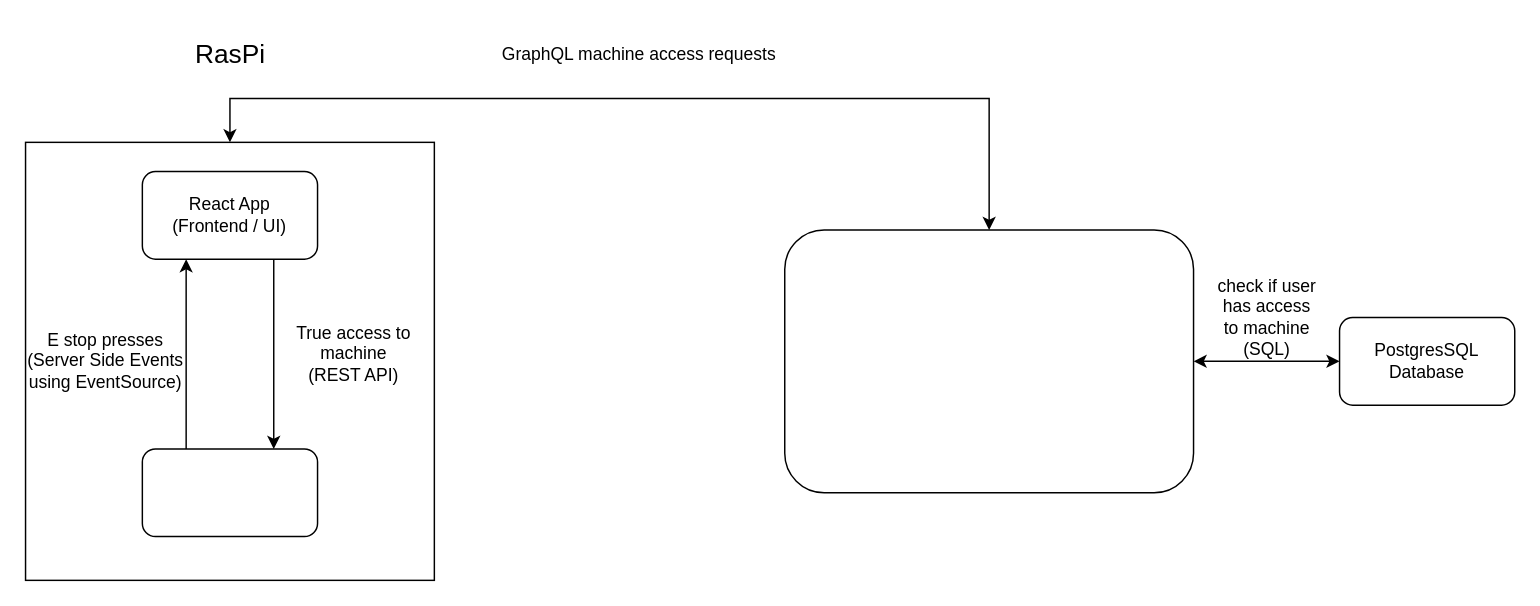
Some shapes in this 1540 by 606 pixel diagram are drawn without their labels. Each missing label, with the centre of its shape:
NodeJS App (Backend / GPIO): the point at 229,492
Software Team Server (Hosted on Heroku): the point at 988,360
